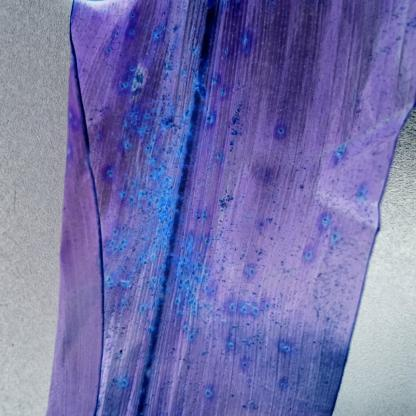Corn rust leaf: (69, 3, 416, 408)
